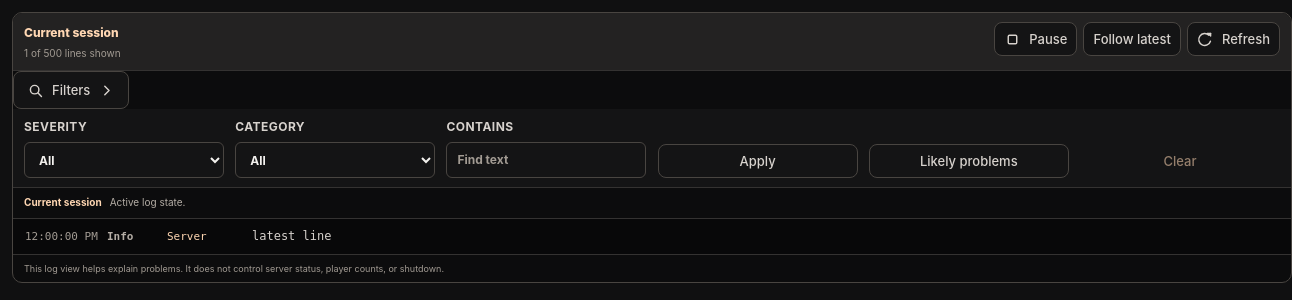
Test: ServerLogViewer › keeps unfinished filters when their compact controls are collapsed without issuing a request
Expected: the text "latest line" is shown, [252,229,332,243]
Step 1. Click the button "Filters" → click(71, 90), box [13,71,129,109]
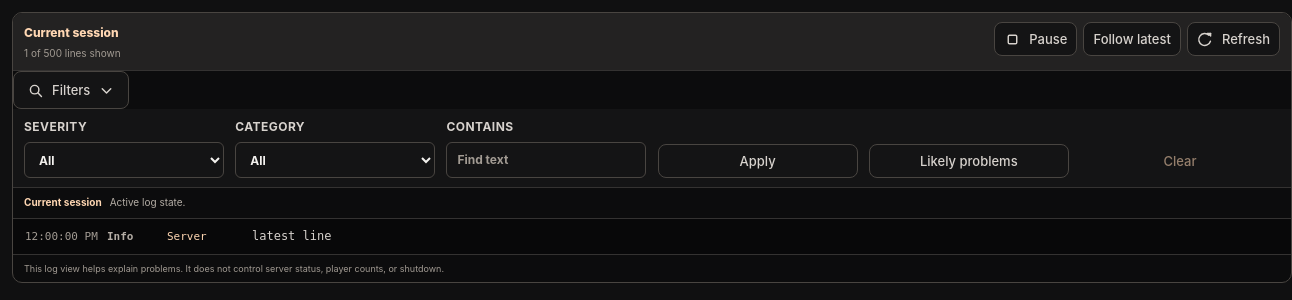
Step 2. Type "unfinished search" into the field named "Log contains" → (546, 160), box [446,142,646,178]
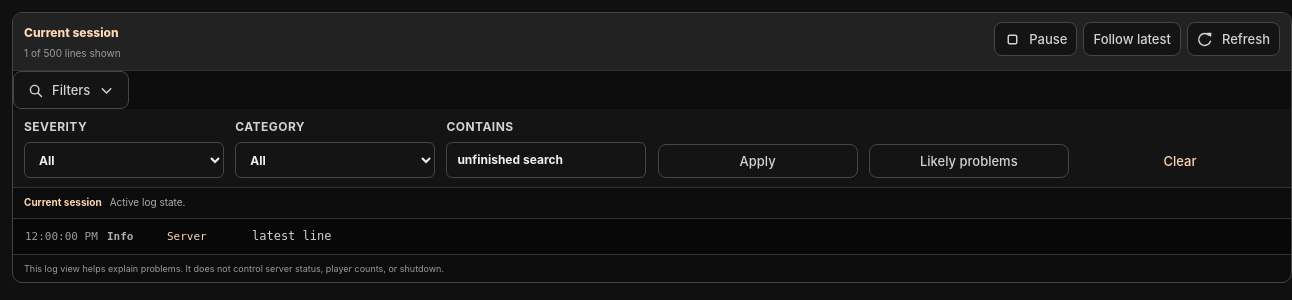
Step 3. Click the button "Filters" → click(71, 90), box [13,71,129,109]
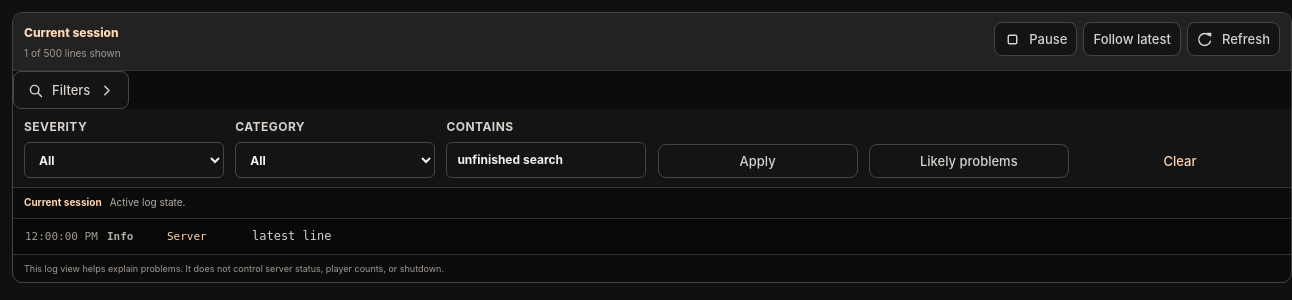
Expected: the element showing "12:00:00 PM Info Server latest line" is shown, [13,219,1291,254]
Step 4. Click the button "Filters" → click(71, 90), box [13,71,129,109]
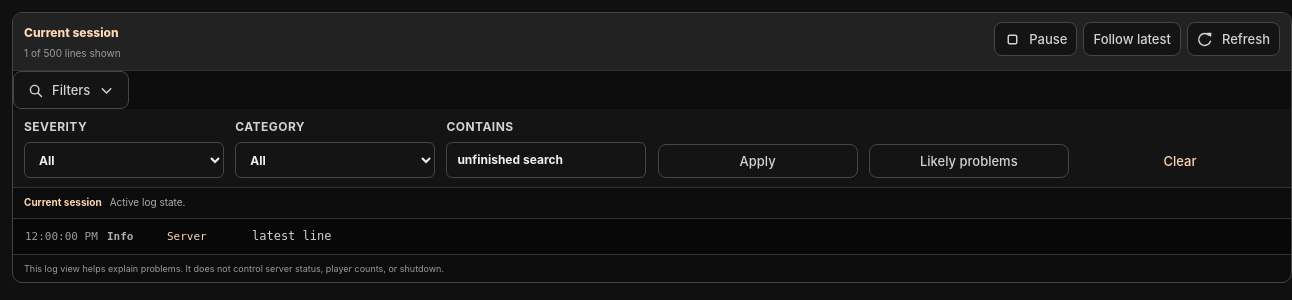
Expected: the button "Filters" is expanded, [13,71,129,109]
